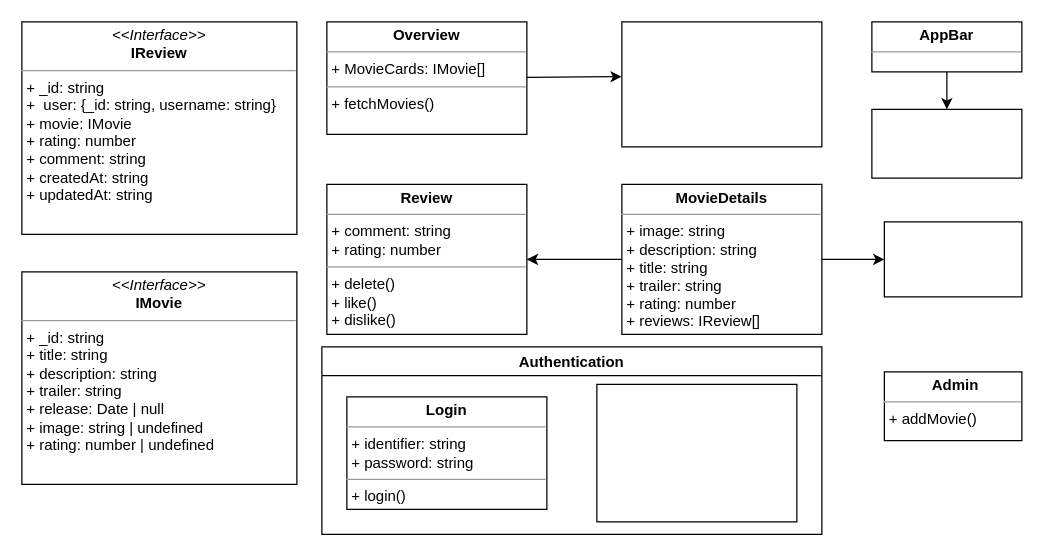
This 1044x556 diagram has some shape labels left out. Here are the shapes that lost their labels. From the top down, the box of each, then its label:
(621, 21, 822, 147): MovieCard + image: string + title: string + trailer: string + rating: number
(871, 108, 1022, 178): Search + search()
(883, 221, 1022, 297): AddReview + addReview()
(596, 383, 797, 522): Register + username: string + email: string + password: string + register()
